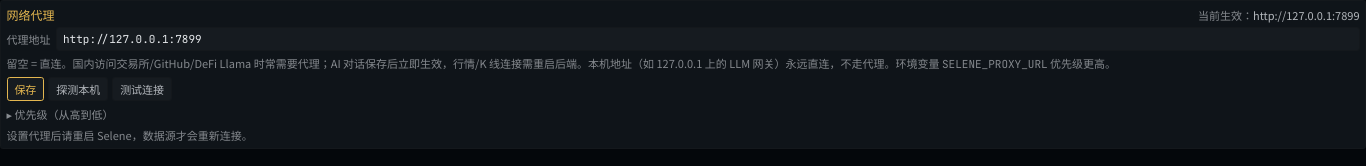
Scenario: NetworkSettingsPanel › says which save failed instead of failing silently
Click the button "保存" at (25, 89), box [6,77,44,101]
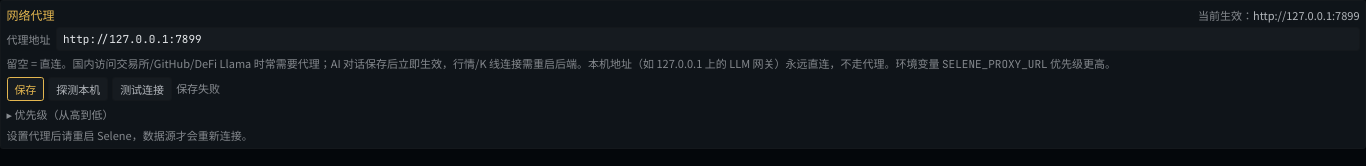
expect the text "保存失败" is shown: met, box [176,82,220,97]
